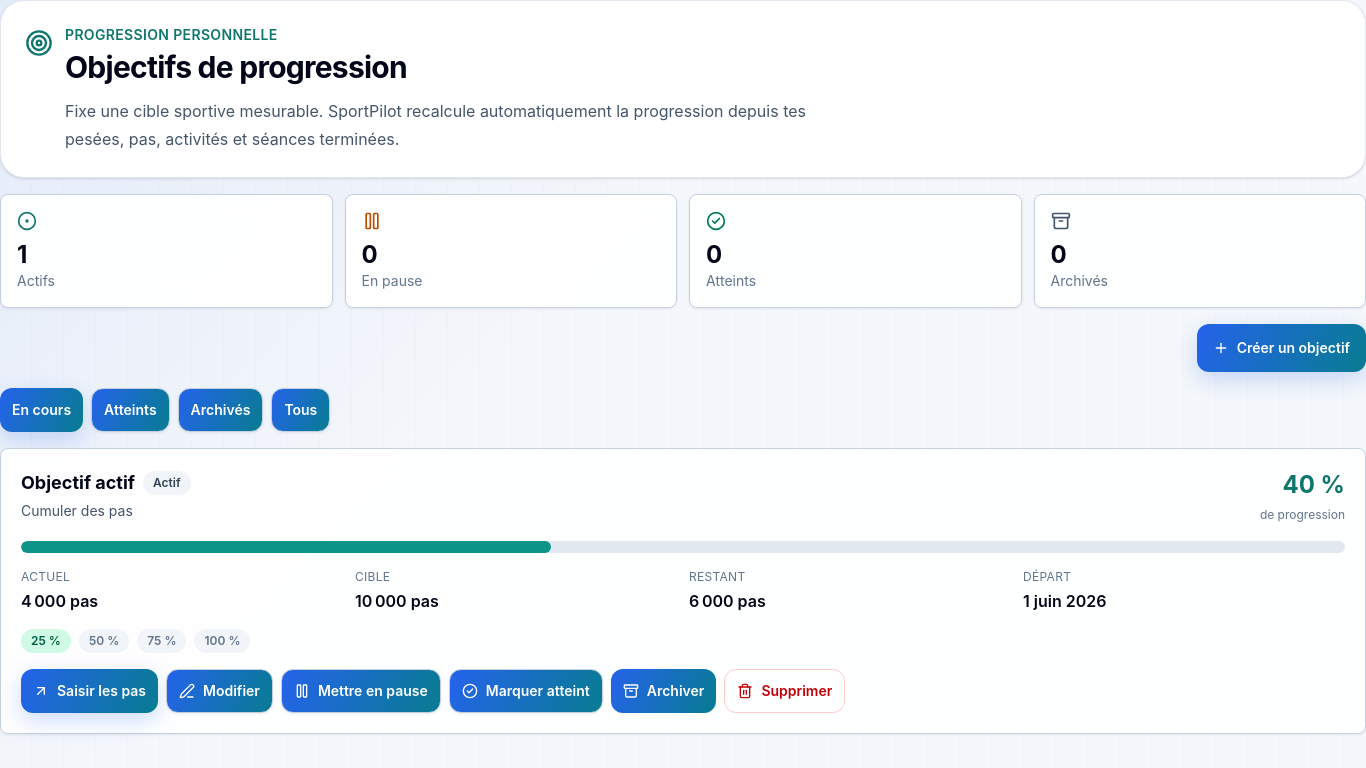
Test case: GoalsPage › demande confirmation avant d’abandonner une modification sale
Click the button "Modifier" at (219, 691), box [166,669,273,713]
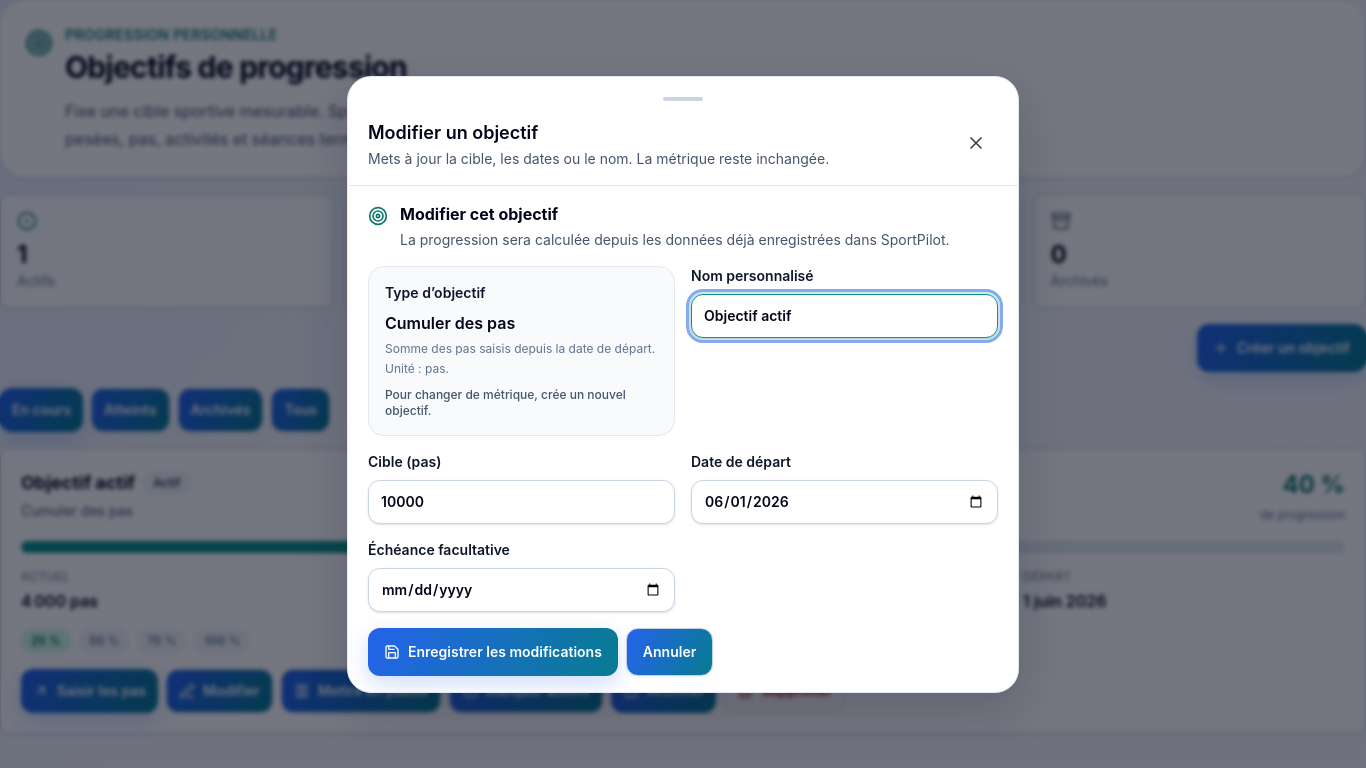
Replace the text in the field labelled "Nom personnalisé" with "Objectif ajusté" at (844, 316), box [691,294,998,338]
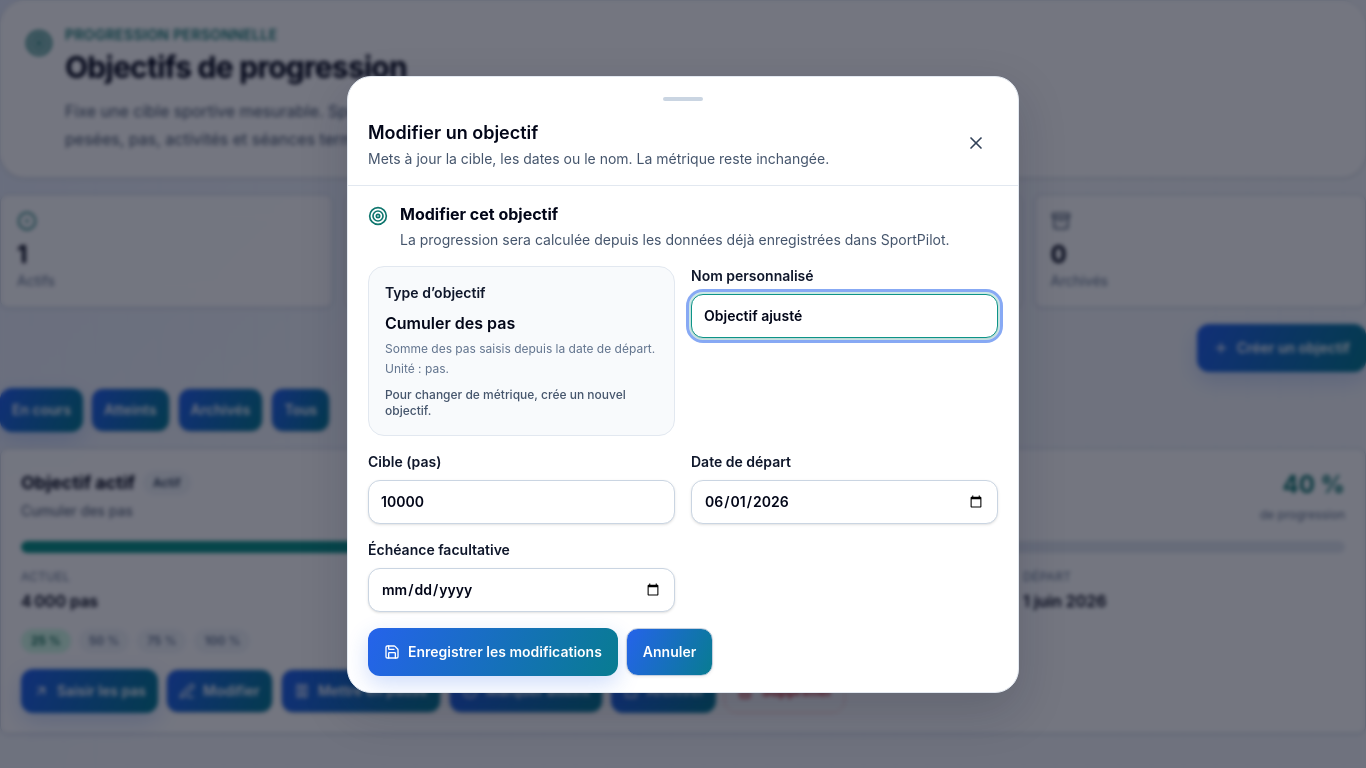
Click the button named "Fermer l’éditeur d’objectif" at (976, 142), box [954,120,998,164]
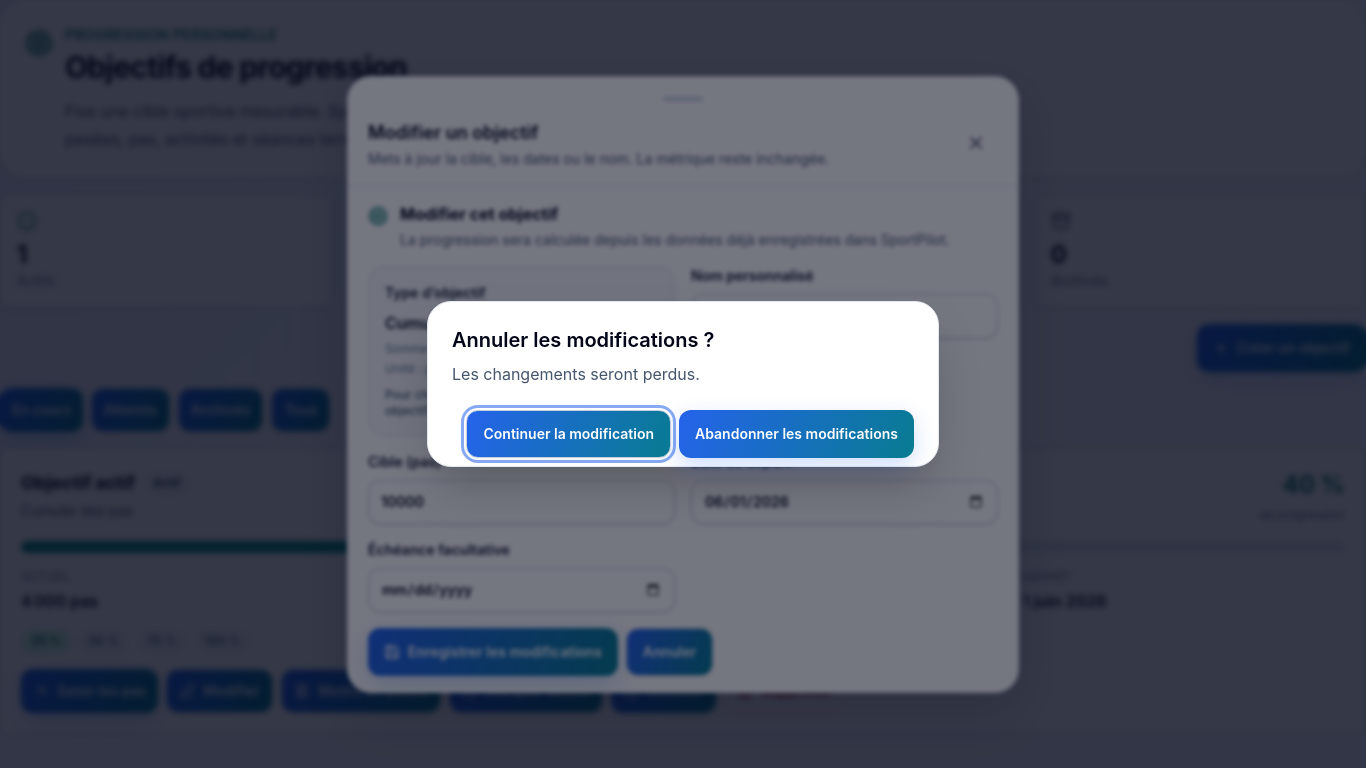
Check: the dialog "Annuler les modifications ?" is shown, box [427,301,939,467]
Click the button "Continuer la modification" at (569, 434), box [466,410,671,458]
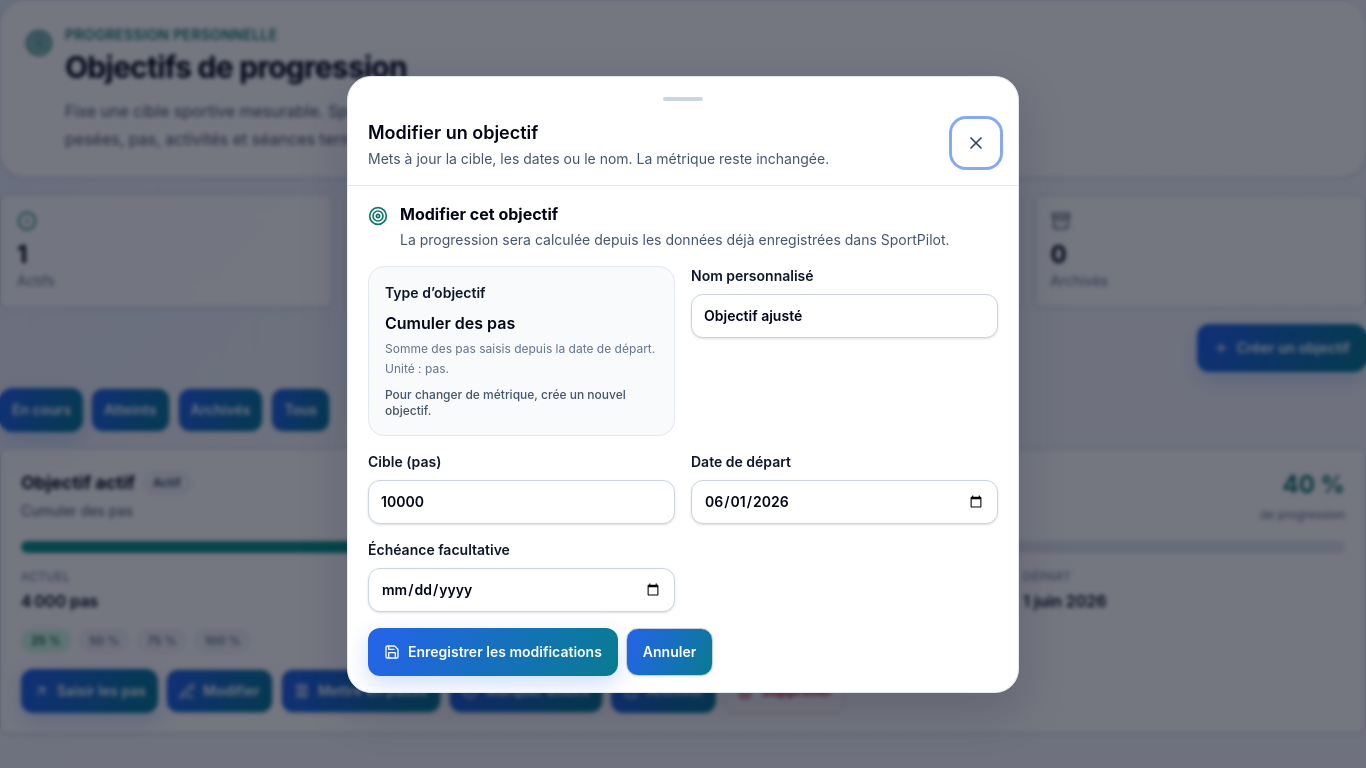
Check: the dialog "Modifier un objectif" is shown, box [347,76,1019,692]
Click the button named "Fermer l’éditeur d’objectif" at (976, 142), box [954,120,998,164]
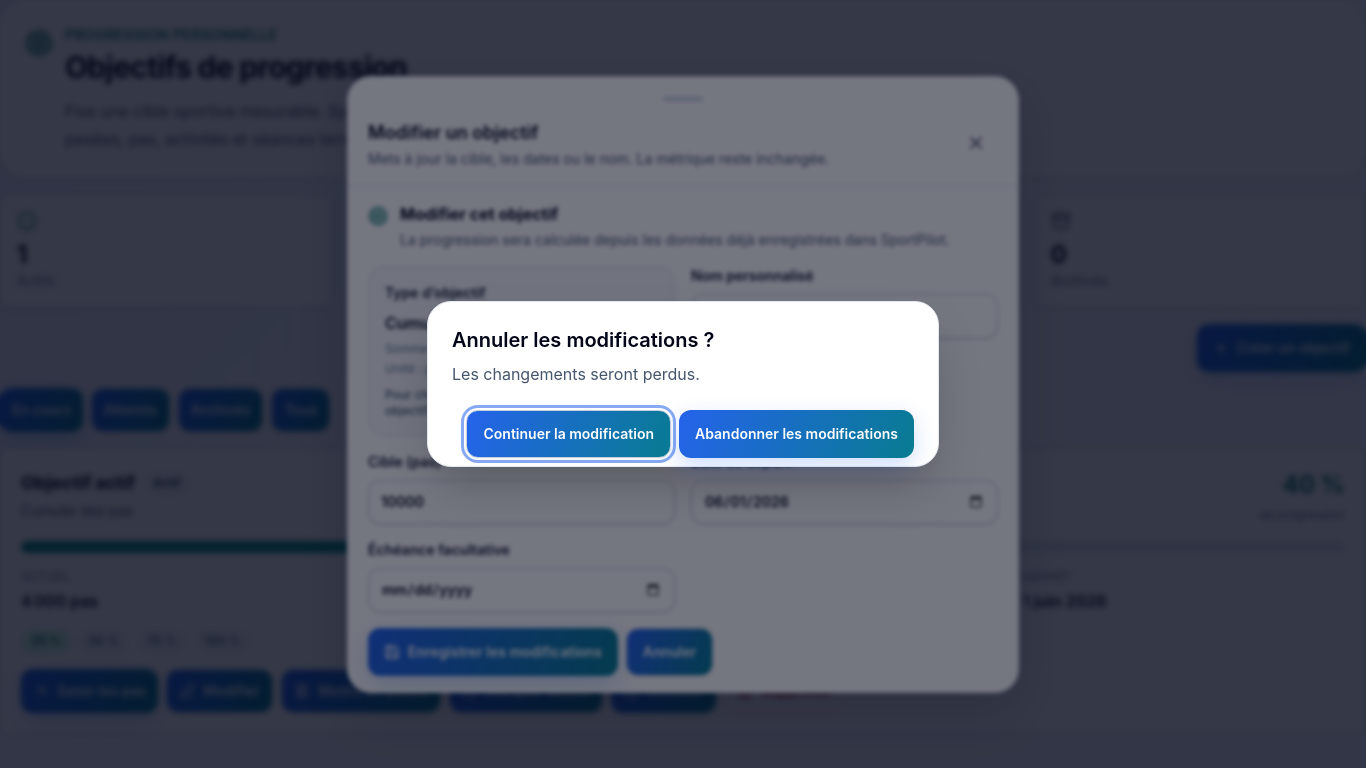
Click the button "Abandonner les modifications" at (796, 434), box [679,410,914,458]
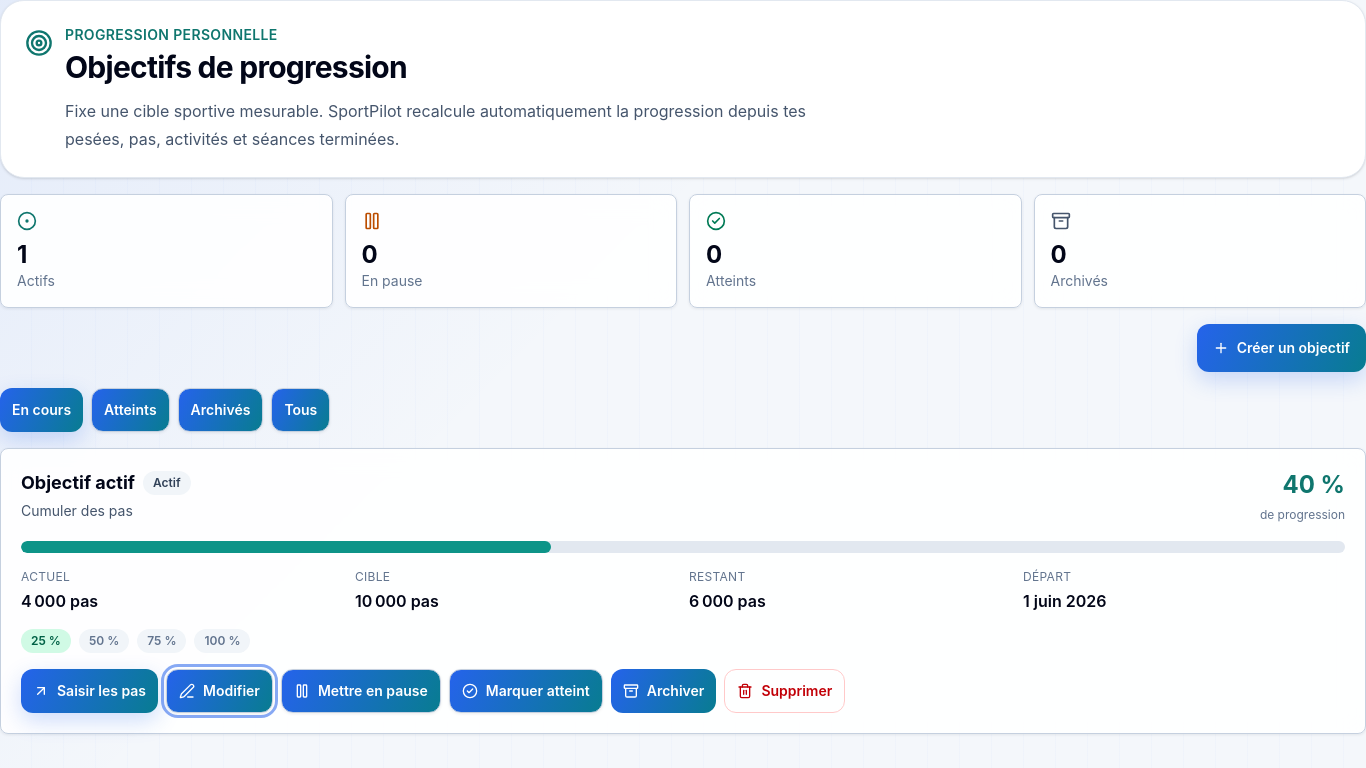
Check: the heading "Modifier un objectif" is gone
